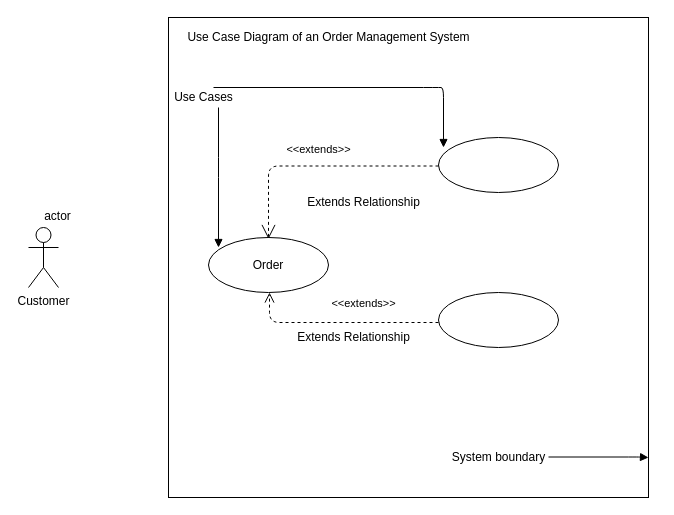
The diagram is 674 pixels wide and 515 high, and some of its shapes have lost their labels. The shapes that lost their labels are listed below. From the top down, each one's centre as x and y in pixels, then its label:
At [498,164]: "SpecialOrder".
At [498,320]: "NormalOrder".
